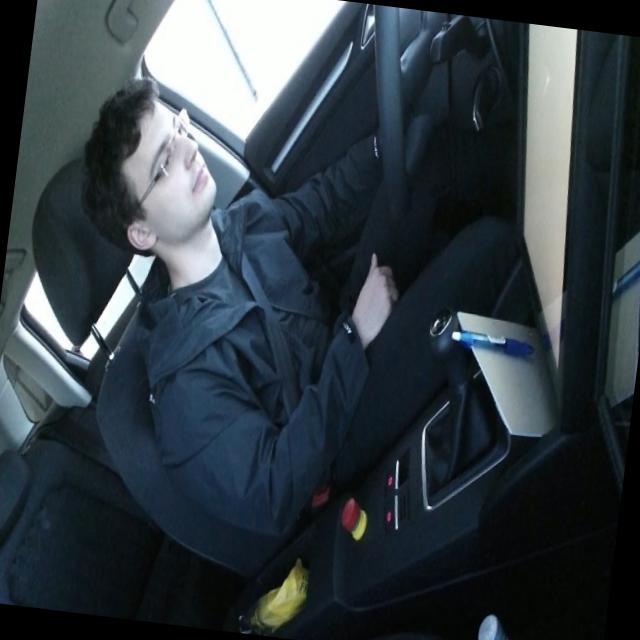pen: (448, 326, 534, 358)
